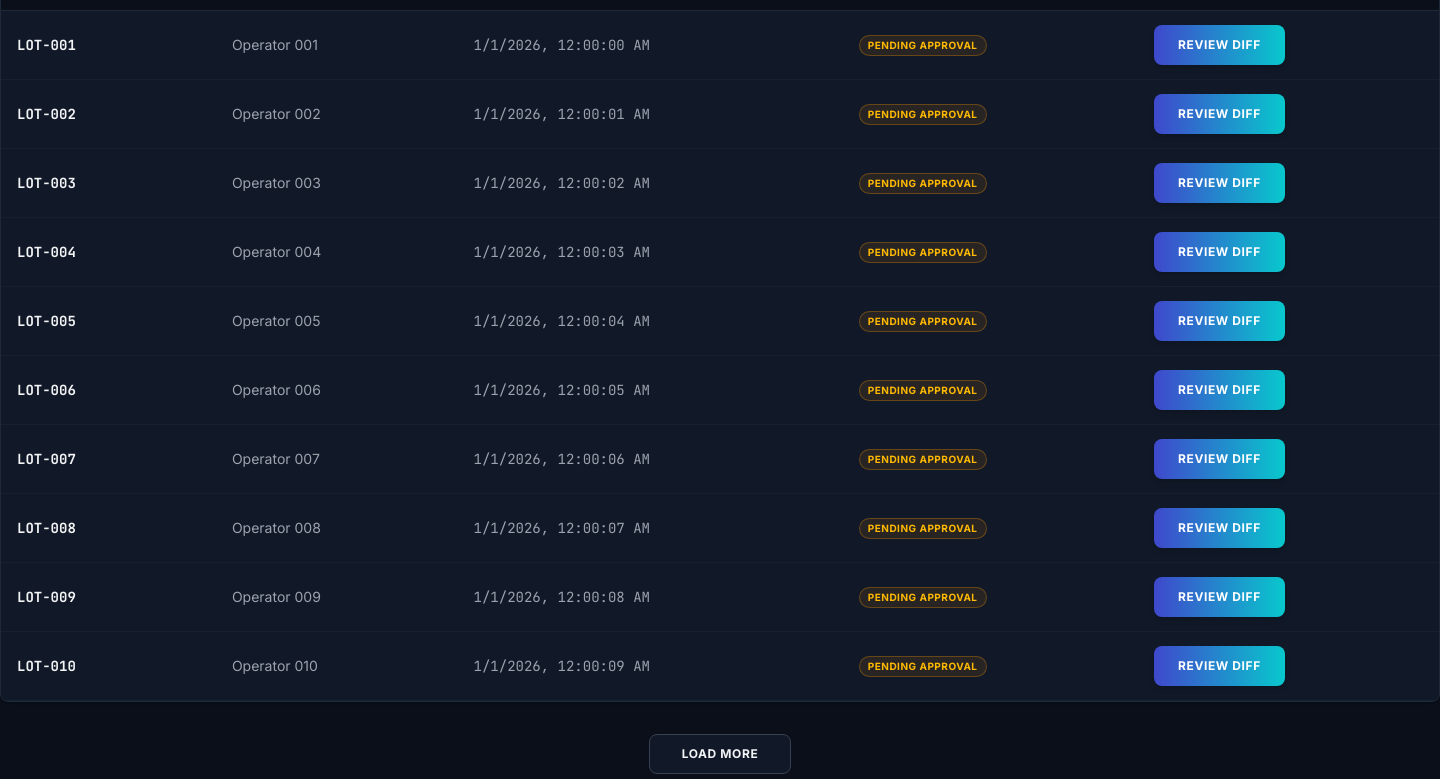
it: ApprovalsQueue — Load More pagination (AUDIT_REPORT.md #20) › LOAD MORE fetches the next page and APPENDS it — no duplicate or skipped rows across pages
This screenshot has width=1440, height=779.
expect the text "LOT-001" is shown: met, box [1,10,216,80]
Click the button "LOAD MORE" at (720, 754), box [649,734,791,774]
(page scrolled)
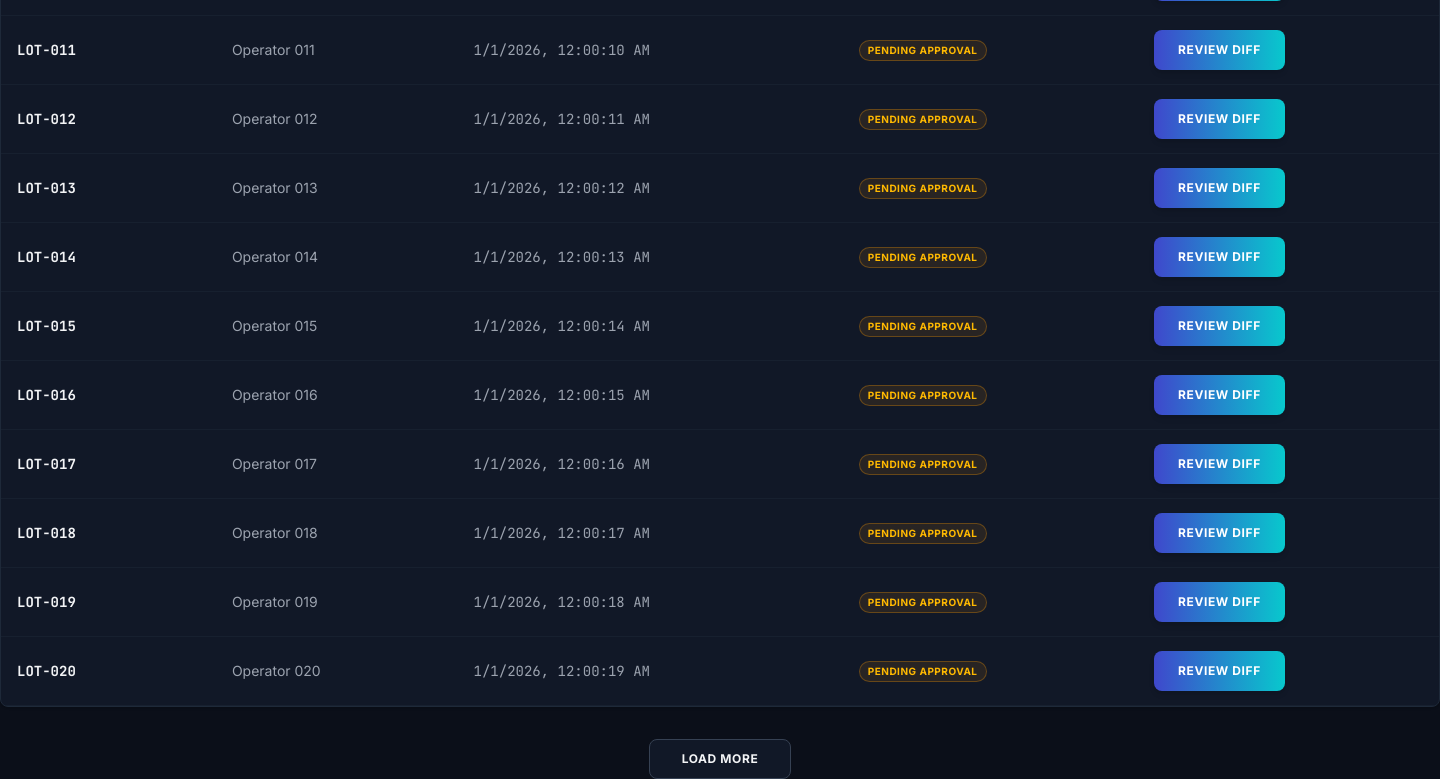
expect the text "LOT-011" is shown: met, box [1,16,216,84]
Page 3 (final)
Click the button "LOAD MORE" at (720, 759), box [649,739,791,778]
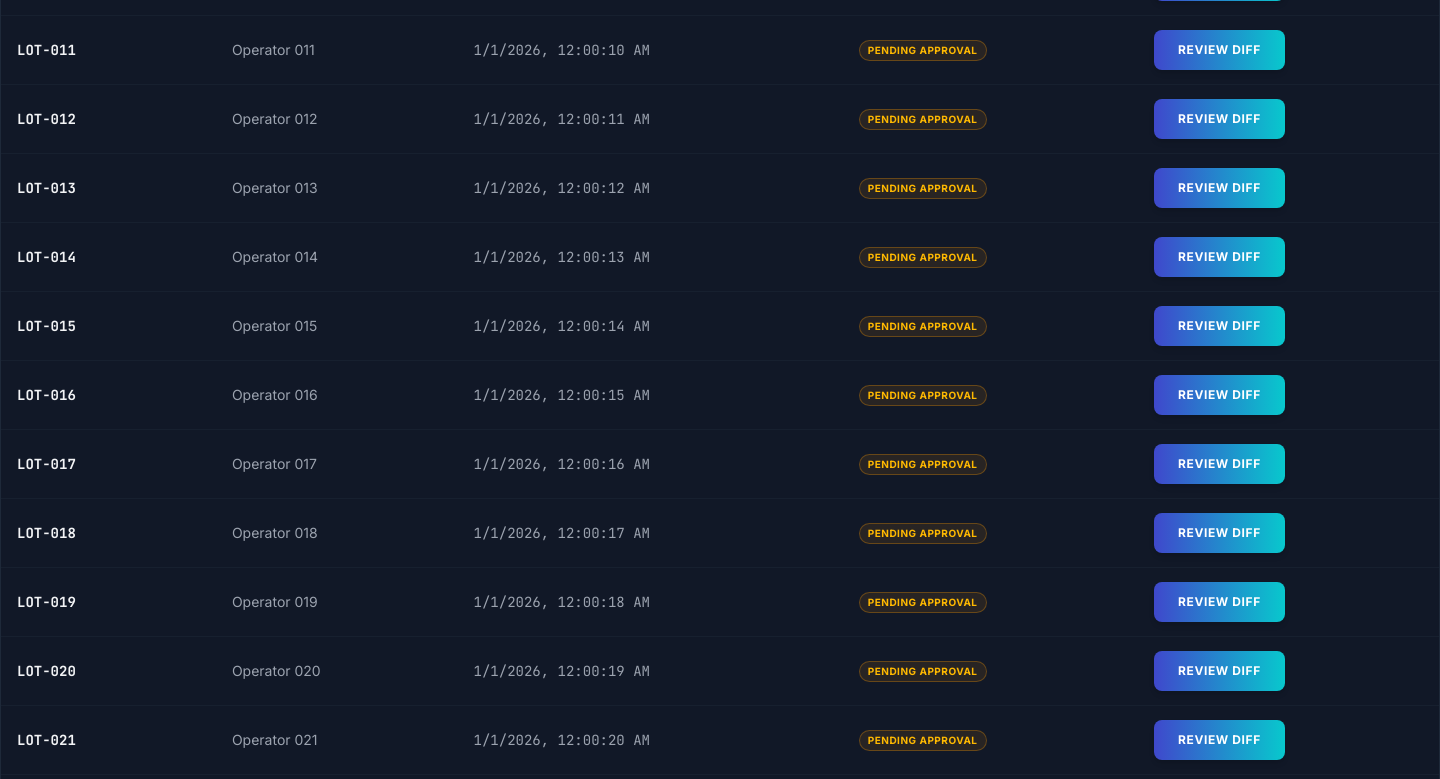
expect the text "LOT-021" is shown: met, box [1,706,216,774]
expect the button "LOAD MORE" is gone: met
